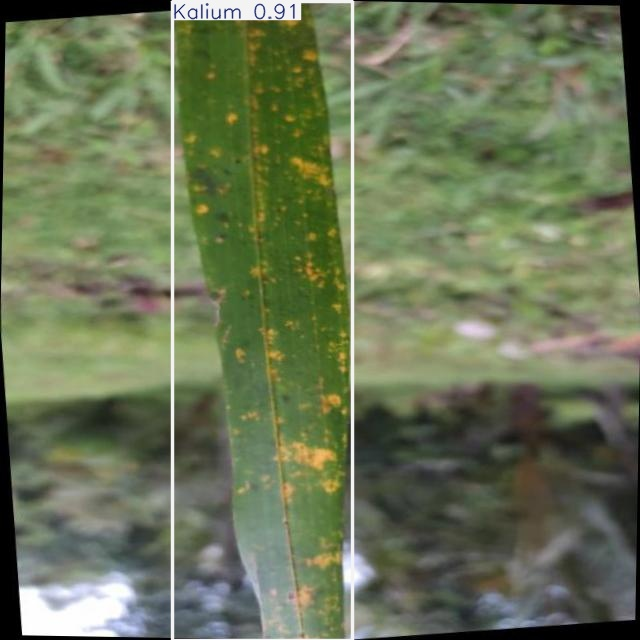Kalium: (173, 2, 352, 640)
